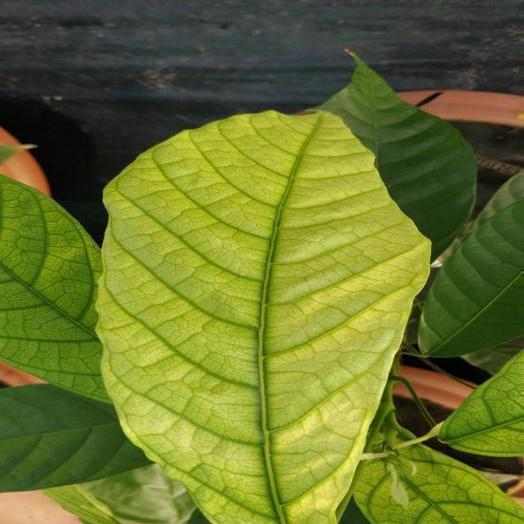Healthy Leaf: (321, 55, 475, 259), (419, 173, 523, 357), (0, 384, 150, 491)
Iron: (97, 111, 429, 523), (0, 175, 109, 401), (354, 445, 523, 523), (440, 352, 523, 456)
